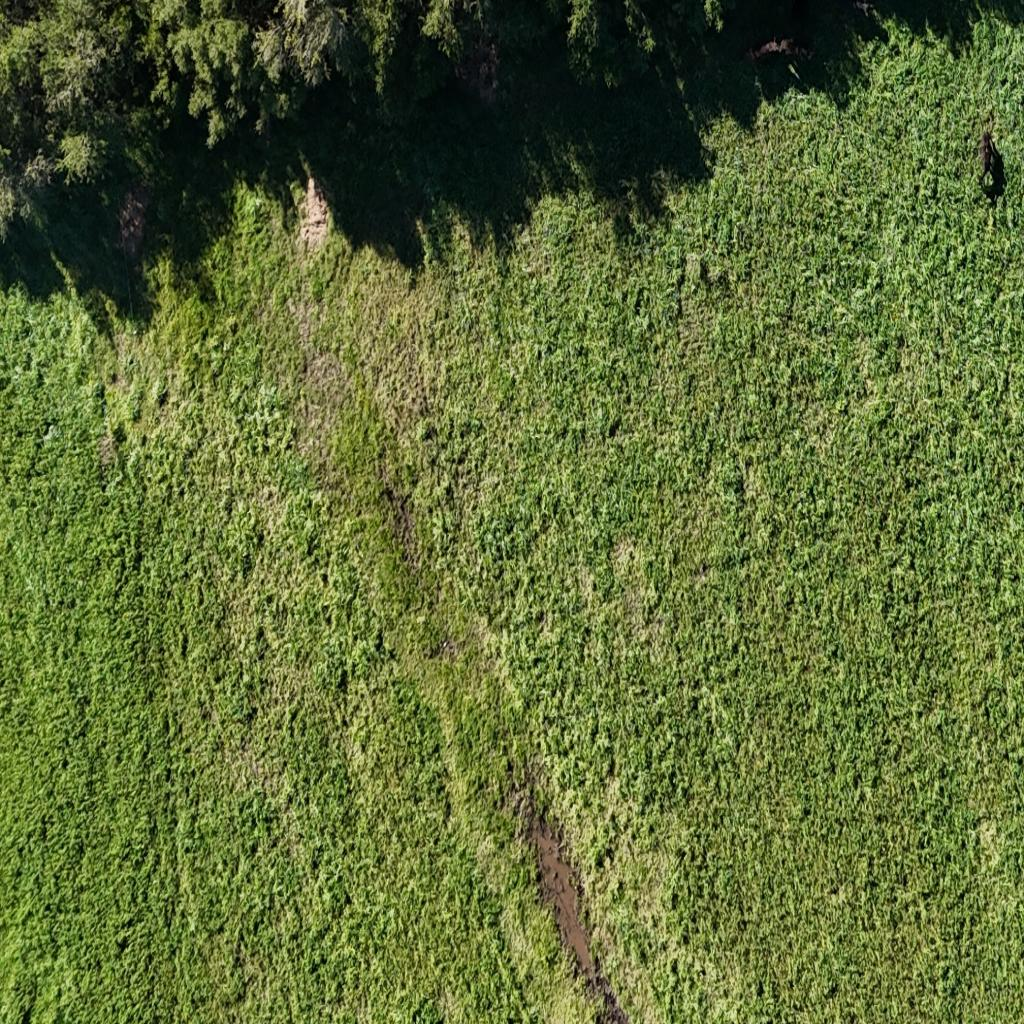cow: (976, 122, 1008, 200)
